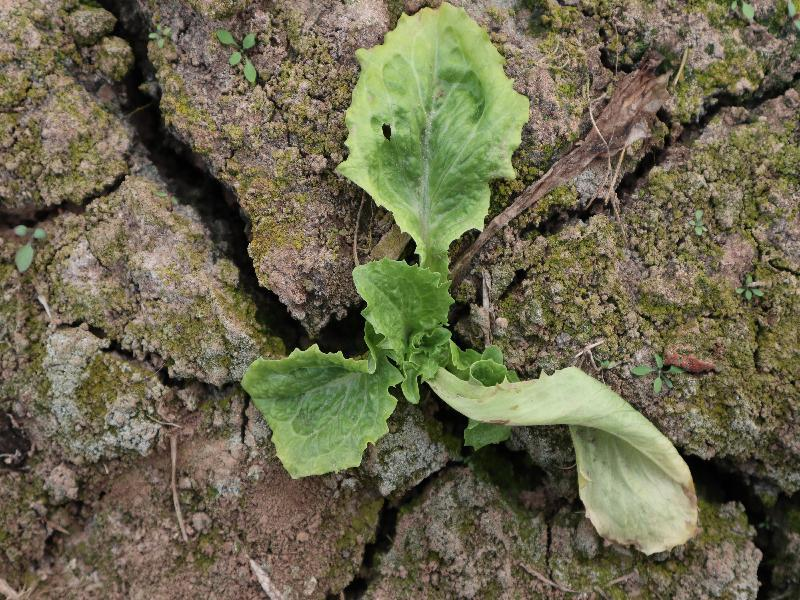lettuce: (240, 2, 530, 479)
